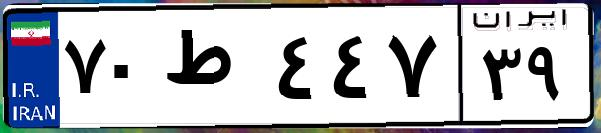0: (110, 28, 158, 98)
3: (475, 38, 525, 113)
4: (270, 28, 330, 110), (330, 28, 385, 110)
7: (385, 28, 445, 110), (57, 26, 110, 100)
9: (525, 38, 570, 115)
ط: (158, 20, 270, 120)
